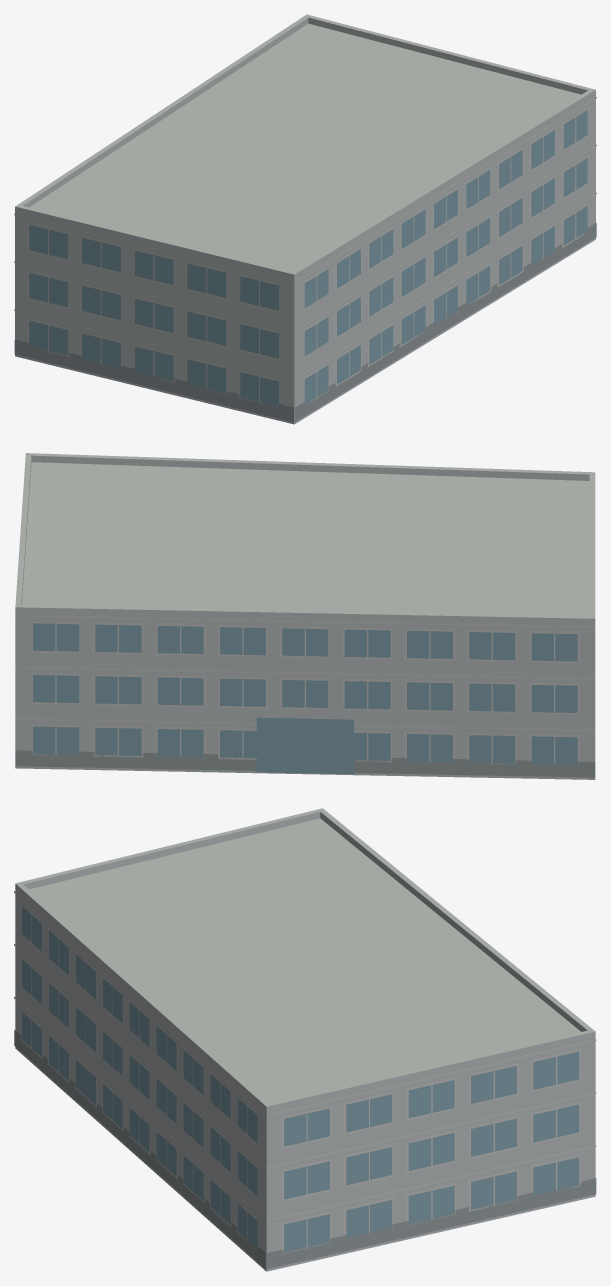
The model's file is public-03fa3410-0a41-4336-82d2-f955fe012e54.glb.
3 views of the same model, one above another, from view 1: azimuth 30°, elevation 25°; view 2: azimuth 150°, elevation 25°; view 3: azimuth 270°, elevation 25° (orthographic). The views are drawn at different scales.
Visible parts, largest first — view 1: public-03fa3410-0a41-4336-82d2-f955fe012e54; view 2: public-03fa3410-0a41-4336-82d2-f955fe012e54; view 3: public-03fa3410-0a41-4336-82d2-f955fe012e54.
Boxes of the visible parts, x1=… form: public-03fa3410-0a41-4336-82d2-f955fe012e54: x1=14, y1=14, x2=596, y2=424; public-03fa3410-0a41-4336-82d2-f955fe012e54: x1=15, y1=453, x2=595, y2=779; public-03fa3410-0a41-4336-82d2-f955fe012e54: x1=14, y1=808, x2=596, y2=1271.
Bounding box in the file's own units: 35.6 × 9.15 × 29.29.
